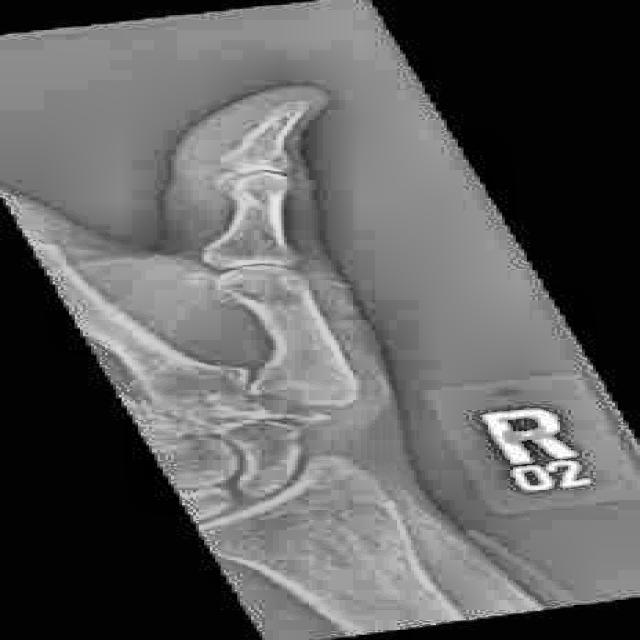fingers positive: (195, 134, 308, 174)
